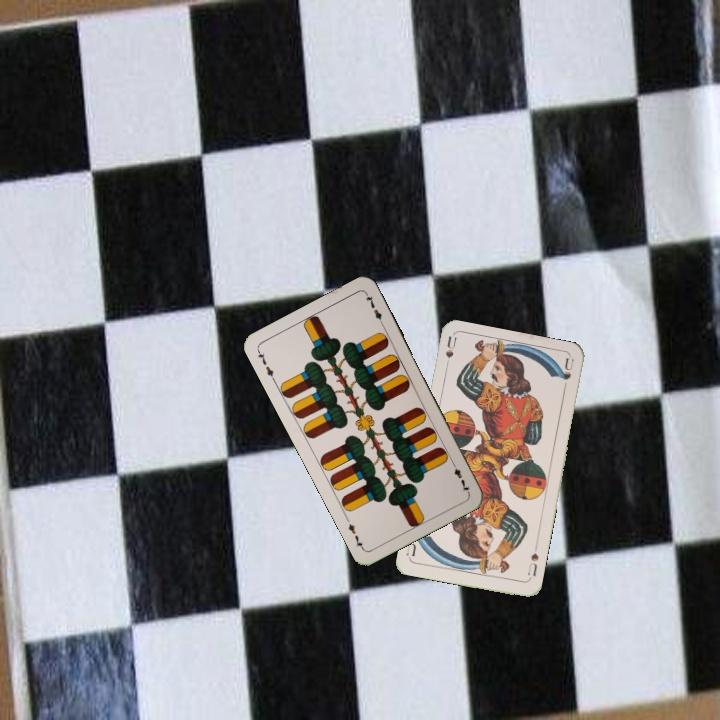E7: (447, 457, 472, 495), (254, 346, 278, 384)
SU: (441, 333, 459, 374), (523, 542, 541, 582)
